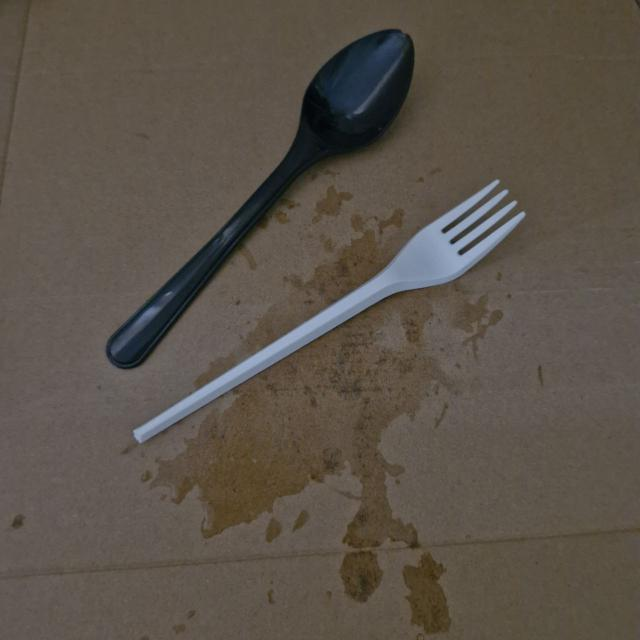plastic: (104, 26, 427, 365), (130, 181, 529, 448)
